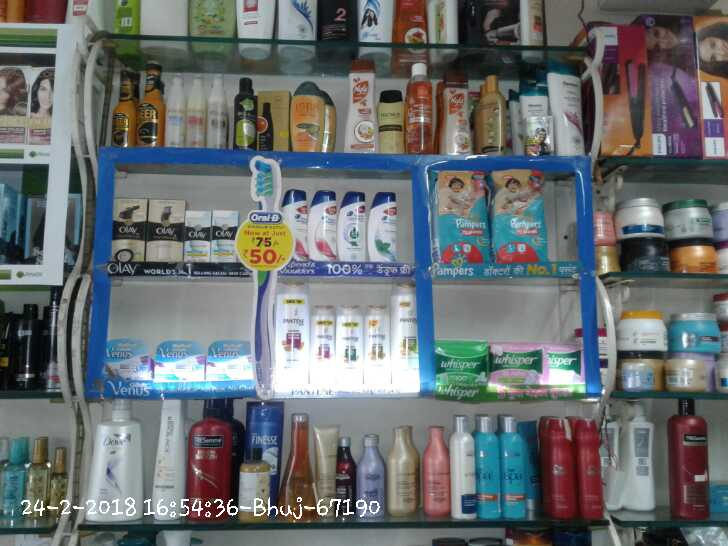venus: (155, 340, 205, 382), (205, 341, 252, 382), (108, 340, 155, 378)
